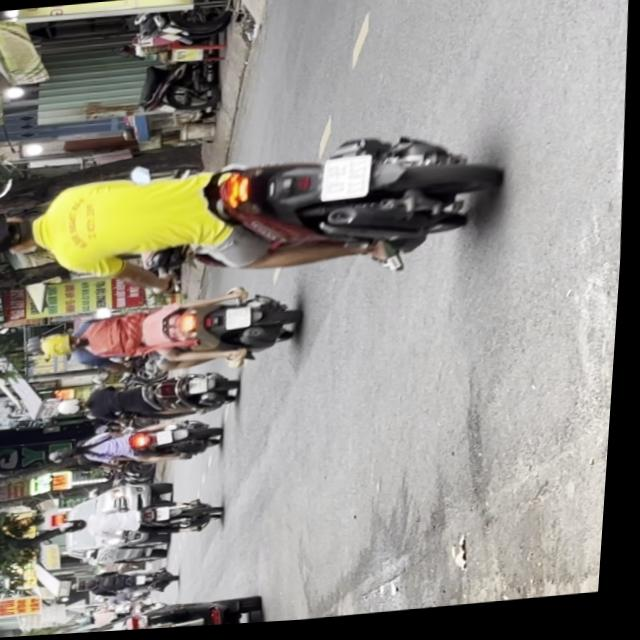helmet: (42, 332, 84, 359)
licenseplate: (0, 127, 504, 306), (36, 285, 307, 384)
motorcyclist: (0, 209, 46, 258)
nohelmet: (320, 158, 372, 205), (227, 309, 255, 333)
